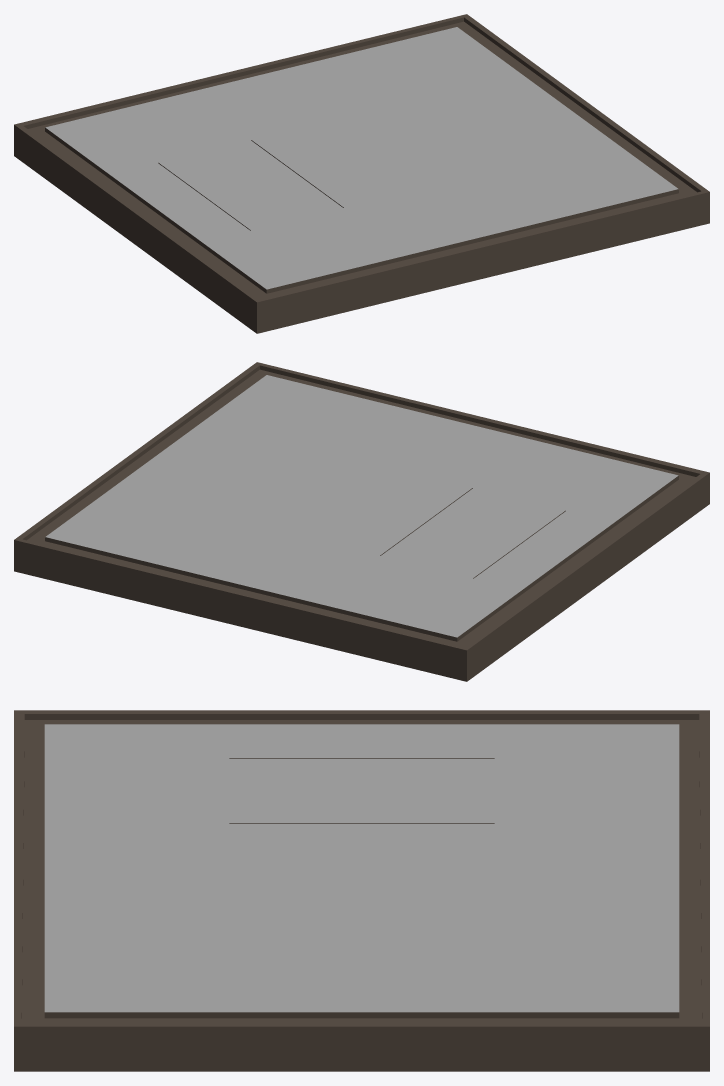
The model's file is ChestTop.fbx.
3 views of the same model, one above another, from view 1: azimuth 30°, elevation 25°; view 2: azimuth 150°, elevation 25°; view 3: azimuth 270°, elevation 25° (orthographic). The views are drawn at different scales.
Parts seen in each view (by area): view 1: ChestTop_Right, ChestTop_Left, Slider_Left, Slider_Right; view 2: ChestTop_Left, ChestTop_Right, Slider_Right, Slider_Left; view 3: ChestTop_Right, ChestTop_Left, Slider_Right, Slider_Left.
Boxes of the visible parts, x1,y1,x2,y2 form: ChestTop_Right: (135, 103, 709, 333); ChestTop_Left: (14, 14, 587, 244); Slider_Left: (158, 140, 296, 196); Slider_Right: (205, 174, 342, 230); ChestTop_Left: (14, 451, 588, 681); ChestTop_Right: (136, 362, 709, 592); Slider_Right: (427, 488, 565, 544); Slider_Left: (381, 522, 518, 578); ChestTop_Right: (14, 710, 361, 1071); ChestTop_Left: (362, 710, 709, 1071); Slider_Right: (229, 758, 361, 823); Slider_Left: (362, 758, 494, 823).
Size of the model in its own units: 5650 by 375 by 5250.
